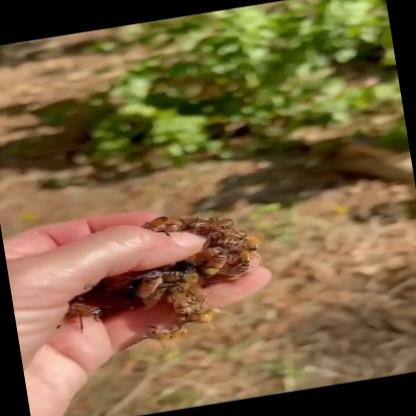bee: (39, 204, 303, 369)
